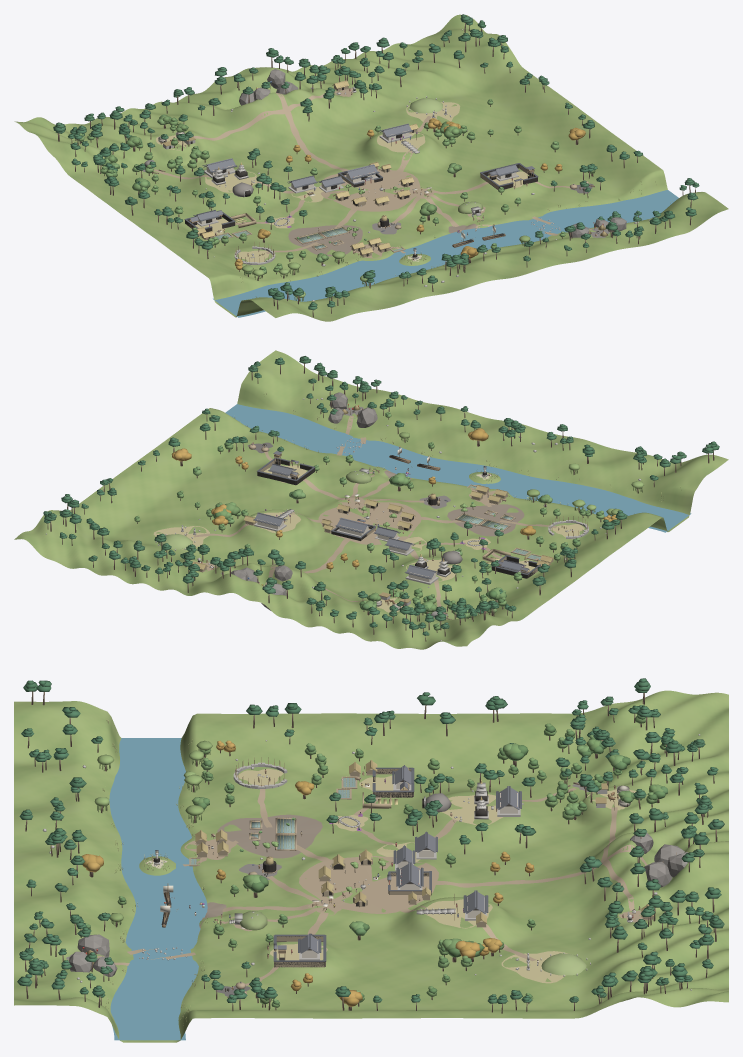
Rendered from silla.glb.
The picture shows the model from 3 angles, top to bottom: view 1: azimuth 30°, elevation 25°; view 2: azimuth 150°, elevation 25°; view 3: azimuth 270°, elevation 25°; orthographic projection. The views are drawn at different scales.
Visible parts, largest first — view 1: ground, static_pine, river, static_dirt, static_leaf2, static_stone, static_dry, static_bark, static_mud, static_leaf_autumn, static_thatch, static_leaf (+2 smaller); view 2: ground, static_pine, river, static_dirt, static_stone, static_leaf2, static_dry, static_bark, static_mud, static_leaf, static_leaf_autumn, static_thatch (+3 smaller); view 3: ground, river, static_pine, static_dirt, static_dry, static_stone, static_leaf2, static_bark, static_leaf, static_mud, static_leaf_autumn, static_rampart (+4 smaller).
Boxes of the visible parts, x1,y1,x2,y2 form: ground: (14, 14, 728, 321); static_pine: (53, 14, 699, 310); river: (213, 190, 678, 317); static_dirt: (154, 88, 591, 258); static_leaf2: (76, 99, 595, 274); static_stone: (163, 29, 649, 301); static_dry: (156, 102, 656, 275); static_bark: (57, 23, 695, 317); static_mud: (288, 223, 476, 256); static_leaf_autumn: (234, 118, 585, 270); static_thatch: (197, 80, 418, 254); static_leaf: (82, 99, 565, 270); ground: (14, 350, 728, 649); static_pine: (43, 356, 719, 635); river: (225, 404, 691, 532); static_dirt: (193, 415, 557, 606); static_stone: (46, 398, 641, 640); static_leaf2: (134, 411, 613, 630); static_dry: (153, 393, 663, 612); static_bark: (47, 363, 714, 641); static_mud: (384, 470, 524, 536); static_leaf: (134, 412, 602, 627); static_leaf_autumn: (171, 428, 617, 569); static_thatch: (192, 485, 554, 569); ground: (14, 690, 728, 1042); river: (109, 738, 207, 1040); static_pine: (17, 678, 724, 1003); static_dirt: (97, 773, 653, 985); static_dry: (102, 720, 635, 1025); static_stone: (43, 734, 700, 990); static_leaf2: (85, 711, 665, 1007); static_bark: (25, 691, 717, 1013); static_leaf: (86, 715, 667, 1004); static_mud: (204, 814, 322, 917); static_leaf_autumn: (81, 740, 534, 1006); static_rampart: (196, 769, 653, 967).
Size of the model in its own units: 260 by 33.3 by 260.
